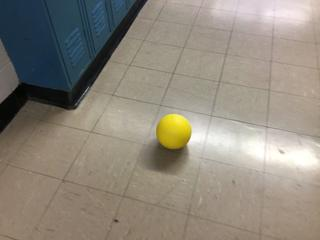power_cell: (156, 113, 193, 153)
